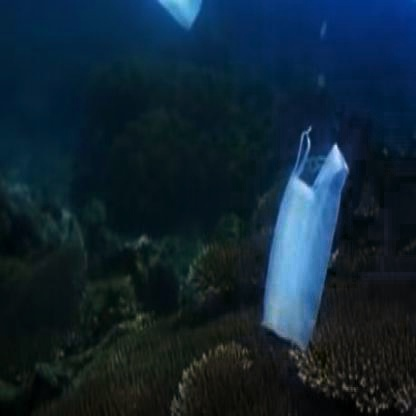plastic: (244, 114, 355, 348)
